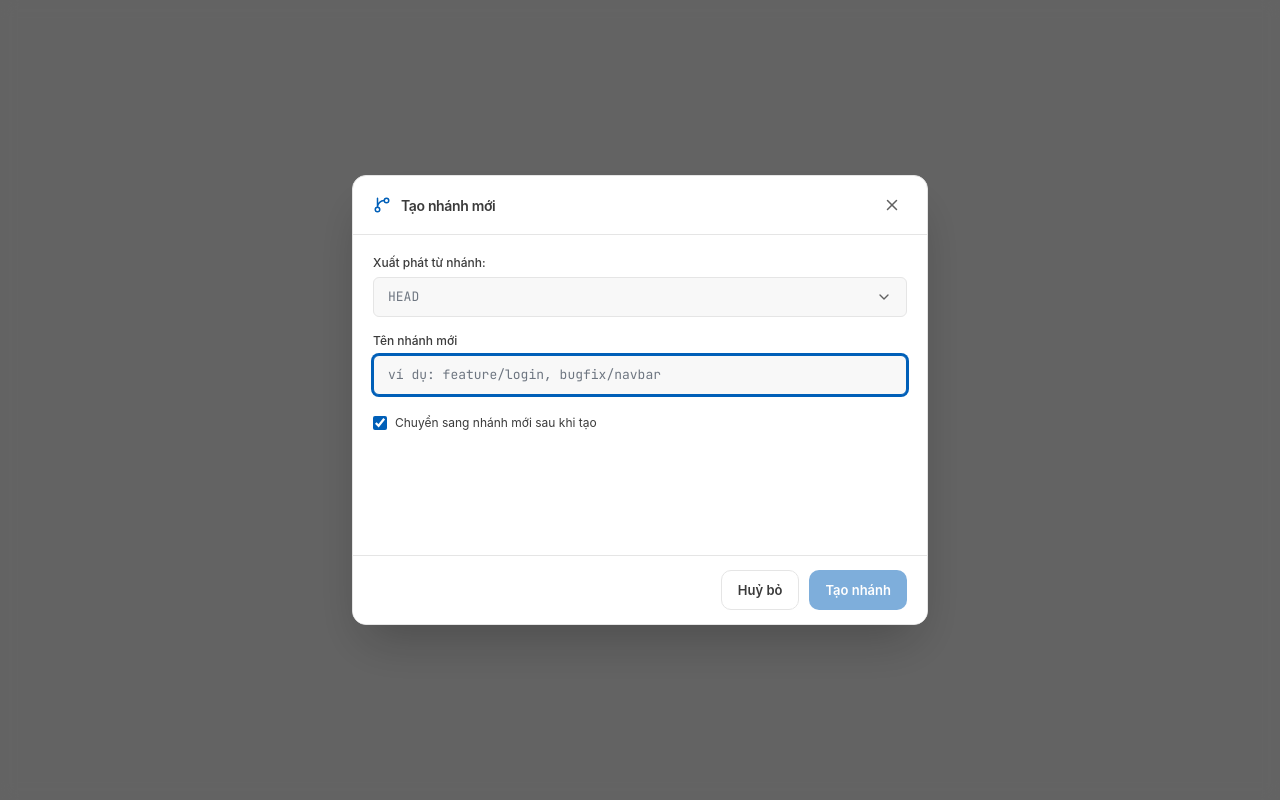
Test case: CreateBranchModal › surfaces the error and stays open when creating fails
The width and height of the screenshot is (1280, 800).
Type "dup" into the field labelled "Tên nhánh mới" at [640, 375], box [373,355,907,395]
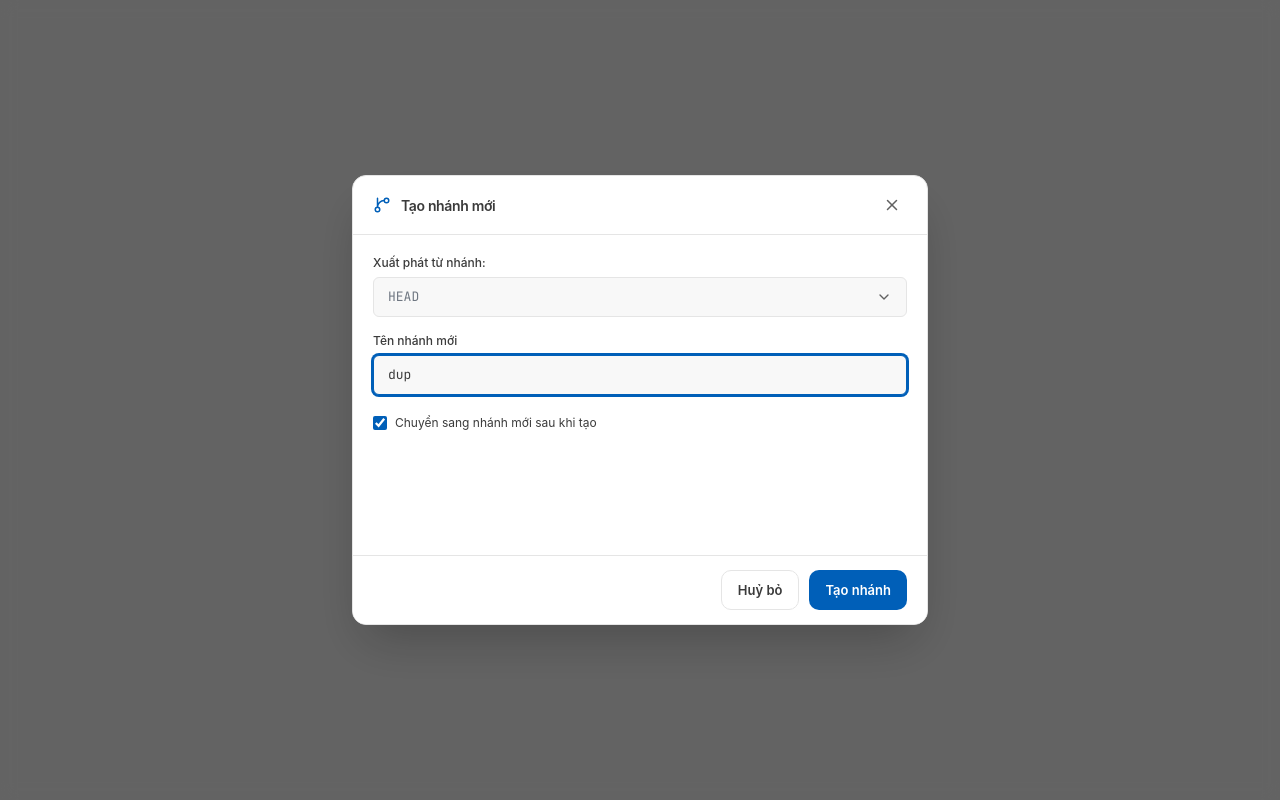
Click the button "Tạo nhánh" at [858, 590], box [809,570,907,610]
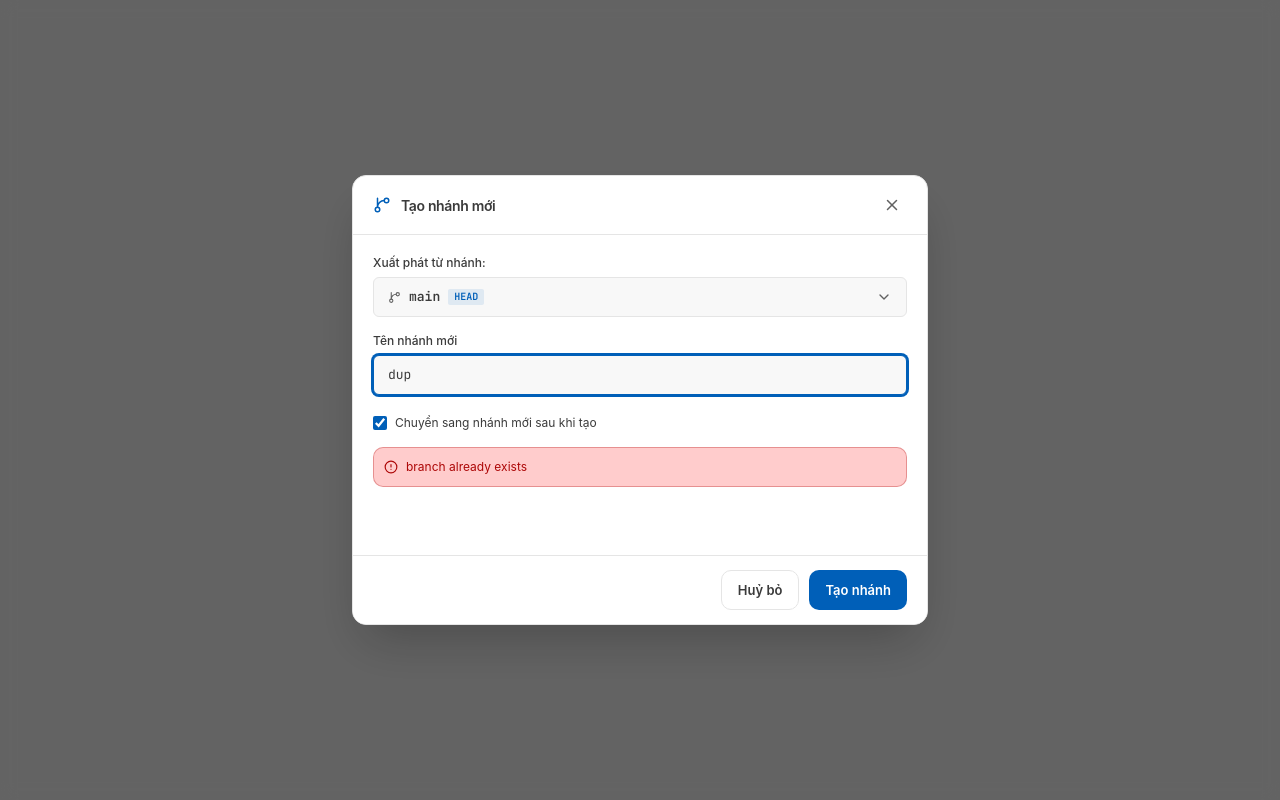
expect the text "branch already exists" is shown: met, box [406,458,527,476]
